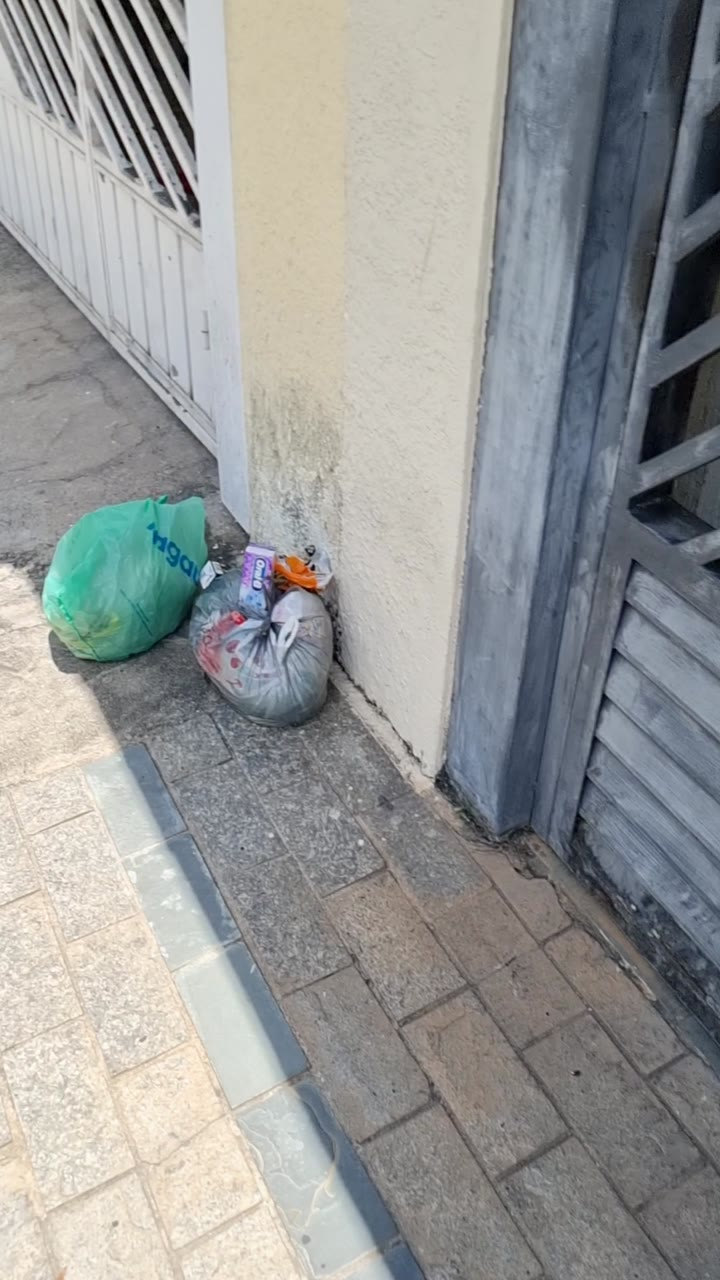obstaculo: (43, 497, 208, 661), (190, 572, 333, 726)
